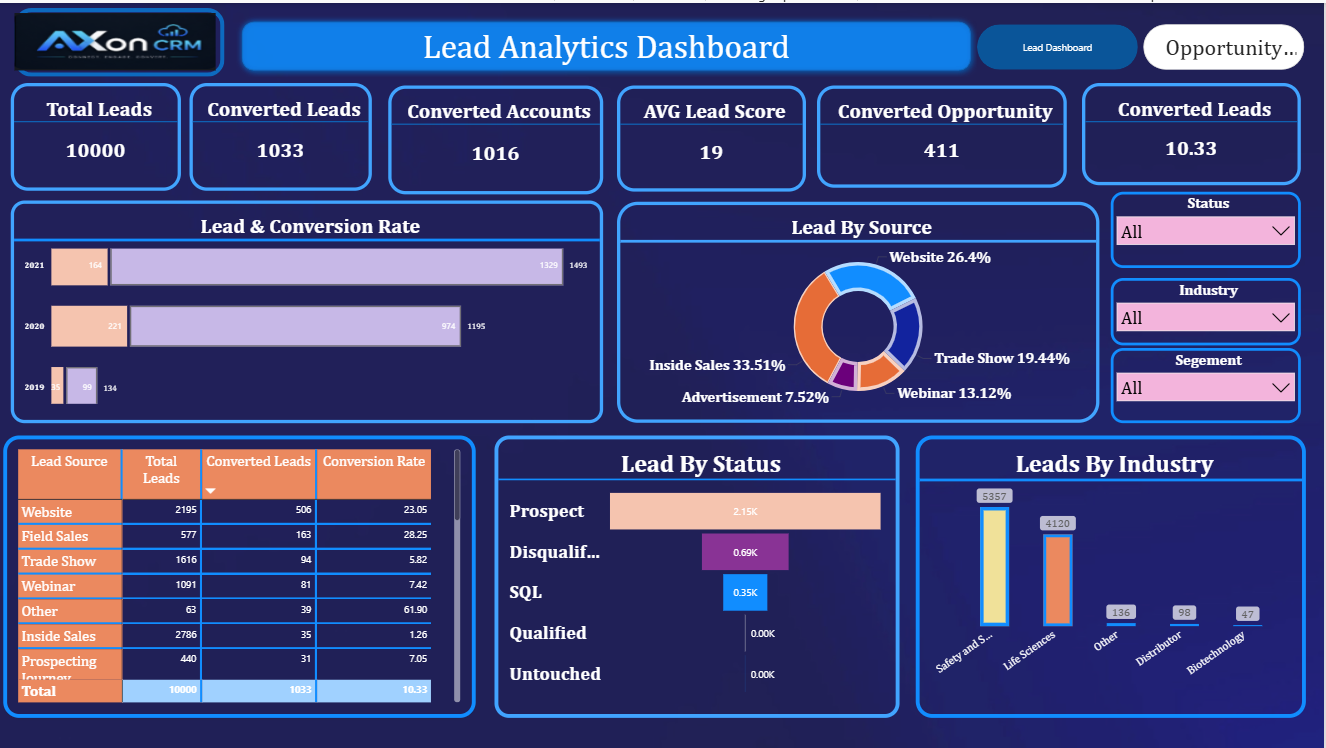

The page's visual inventory and layout, read from the dashboard file:
{"tool":"powerbi","page":{"name":"Lead Dashboard","canvas":[1920,1080],"ordinal":0},"visuals":[{"type":"card","title":"Total Leads","fields":{"Values":["Sum(Lead.Total Leads)"]},"box":[19.9,115.8,246.1,155.6],"z":0},{"type":"shape","box":[25.3,7.2,304,99.5],"z":1000,"group":"g1"},{"type":"donutChart","title":"Lead By Source","fields":{"Category":["Lead.Lead Source"],"Y":["Sum(Lead.Total Leads)"]},"box":[897.6,287.7,698.5,320.3],"z":1000},{"type":"card","title":"Converted Leads","fields":{"Values":["Sum(Lead.Conversion Rate)"]},"box":[278.7,115.8,264.2,155.6],"z":2000},{"type":"image","box":[25.3,14.4,291.4,83.2],"z":3000,"group":"g1"},{"type":"card","title":"Converted Accounts","fields":{"Values":["Sum(Lead.# Converted Accounts)"]},"box":[566.4,119.4,311.3,157.4],"z":3000},{"type":"card","title":"Converted Opportunity","fields":{"Values":["Sum(Lead.# Converted Opportunities)"]},"box":[1187.1,119.4,361.9,148.4],"z":4000},{"type":"card","title":"Converted Leads","fields":{"Values":["Account.Conversion Rate"]},"box":[1570.8,115.8,316.7,148.4],"z":5000},{"type":"barChart","title":"Lead & Conversion Rate","fields":{"Category":["Lead.Pardot Conversion Date.Variation.Date Hierarchy.Year"],"Y":["Account.Total Leads","Sum(Lead.Conversion Rate)"]},"box":[19.9,285.9,857.8,322.1],"z":6000},{"type":"funnel","title":"Lead By Status","fields":{"Category":["Lead.Status"],"Y":["CountNonNull(Lead.Lead ID)"]},"box":[720.2,626.1,586.3,409],"z":7000},{"type":"slicer","title":"Segement","fields":{"Values":["Lead.Marketing Segmentation"]},"box":[1612.4,499.5,275.1,108.6],"z":8000},{"type":"pivotTable","fields":{"Rows":["Lead.Lead Source"],"Values":["CountNonNull(Lead.Lead ID)","Sum(Lead.Conversion Rate)","Account.Conversion Rate"]},"box":[9,626.1,684.1,409],"z":9000},{"type":"shape","box":[345.6,18.1,1073.1,88.7],"z":10000},{"type":"lineStackedColumnComboChart","title":"Leads By Industry","fields":{"Category":["Lead.Industry"],"Y":["Sum(Lead.Total Leads)"]},"box":[1330.1,626.1,564.6,409],"z":11000},{"type":"slicer","title":"Industry","fields":{"Values":["Lead.Industry"]},"box":[1612.4,398.1,275.1,97.7],"z":12000},{"type":"card","title":"AVG Lead Score","fields":{"Values":["Avg(Lead.Pardot Score)"]},"box":[897.6,119.4,273.3,153.8],"z":14000},{"type":"slicer","title":"Status","fields":{"Values":["Opportunity.Primary Application"]},"box":[1612.4,273.3,275.1,110.4],"z":15000},{"type":"pageNavigator","box":[1418.8,30.8,475.9,67],"z":16000},{"type":"group","id":"g1","title":"Group 1","box":[25.3,7.2,304,99.5],"z":17000}]}

Visuals, with their boxes in screenshot pixels (x1, y1, x2, y2), scaled from the page's 1920x1080 canvas onto the 1326x748 screenshot:
"Total Leads" card: (14,80,184,188)
shape: (17,5,227,74)
"Lead By Source" donutChart: (620,199,1102,421)
"Converted Leads" card: (192,80,375,188)
image: (17,10,219,68)
"Converted Accounts" card: (391,83,606,192)
"Converted Opportunity" card: (820,83,1070,185)
"Converted Leads" card: (1085,80,1304,183)
"Lead & Conversion Rate" barChart: (14,198,606,421)
"Lead By Status" funnel: (497,434,902,717)
"Segement" slicer: (1114,346,1304,421)
pivotTable - Lead.Lead Source x CountNonNull(Lead.Lead ID): (6,434,479,717)
shape: (239,13,980,74)
"Leads By Industry" lineStackedColumnComboChart: (919,434,1309,717)
"Industry" slicer: (1114,276,1304,343)
"AVG Lead Score" card: (620,83,809,189)
"Status" slicer: (1114,189,1304,266)
pageNavigator: (980,21,1309,68)
"Group 1" group: (17,5,227,74)
